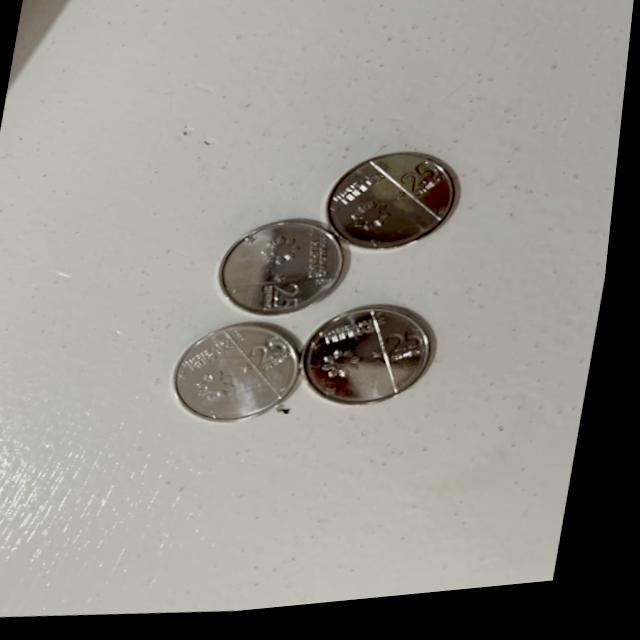25Cent_New_Front: (393, 157, 464, 210), (249, 335, 310, 383), (388, 326, 442, 378), (258, 280, 320, 322)
